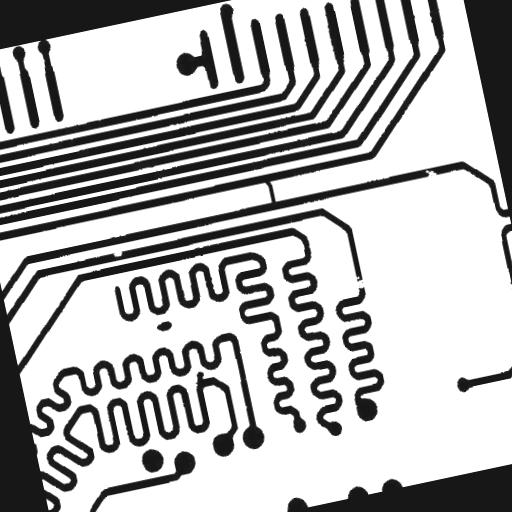copper: (146, 311, 181, 341)
mousebite: (416, 158, 446, 188), (104, 241, 132, 266)
open: (341, 265, 378, 298)
short: (250, 166, 284, 214)
spur: (184, 360, 214, 394)
